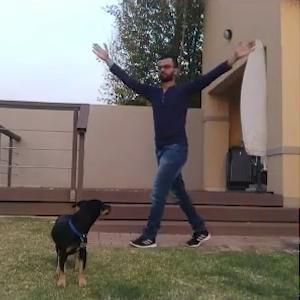takeoff: (91, 35, 259, 250)
